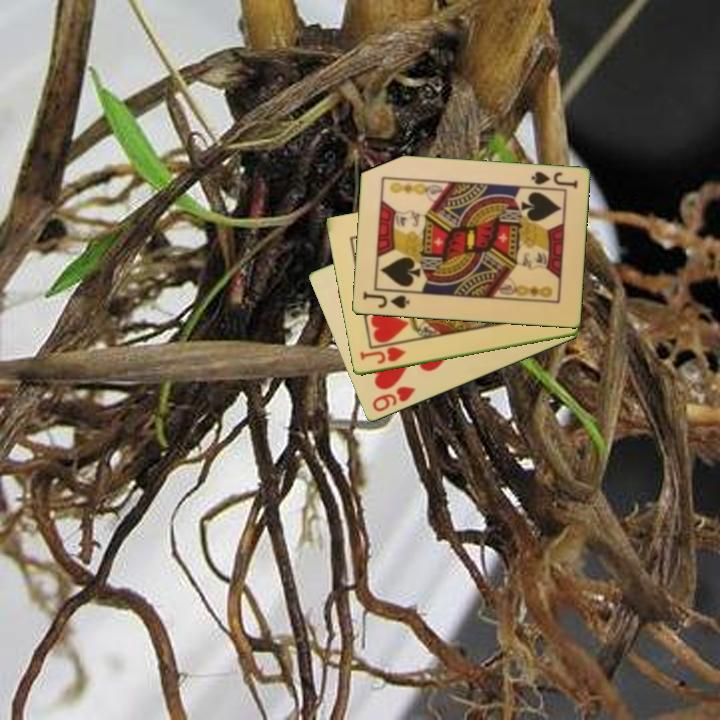9h: (369, 383, 418, 415)
Jh: (356, 343, 408, 367)
Js: (359, 288, 412, 312), (527, 168, 580, 192)
